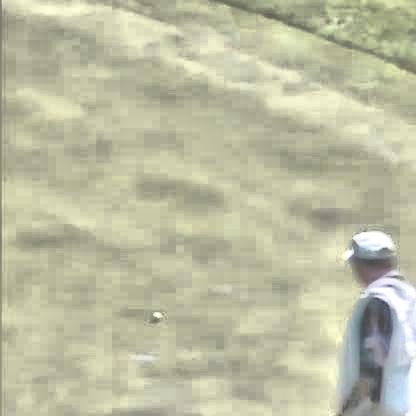golfball: (151, 308, 161, 319)
